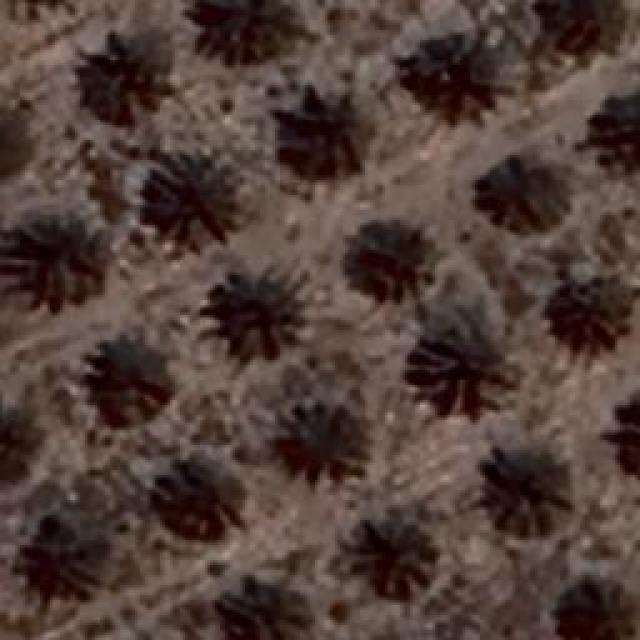PalmTree: (8, 215, 118, 300), (332, 510, 432, 600), (90, 339, 188, 429), (276, 96, 359, 179), (484, 442, 566, 526), (148, 165, 234, 243), (419, 321, 499, 404), (484, 142, 558, 230), (288, 400, 360, 488), (226, 282, 302, 362), (217, 577, 312, 640), (200, 0, 308, 55), (414, 34, 494, 108), (555, 274, 635, 348), (165, 462, 243, 536), (532, 0, 628, 55), (96, 50, 169, 118), (38, 528, 98, 602), (0, 401, 50, 487), (562, 585, 640, 640), (358, 234, 424, 294), (595, 96, 640, 166), (612, 394, 640, 472)
